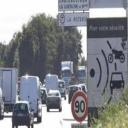speed_limit_90: (71, 91, 88, 121)
